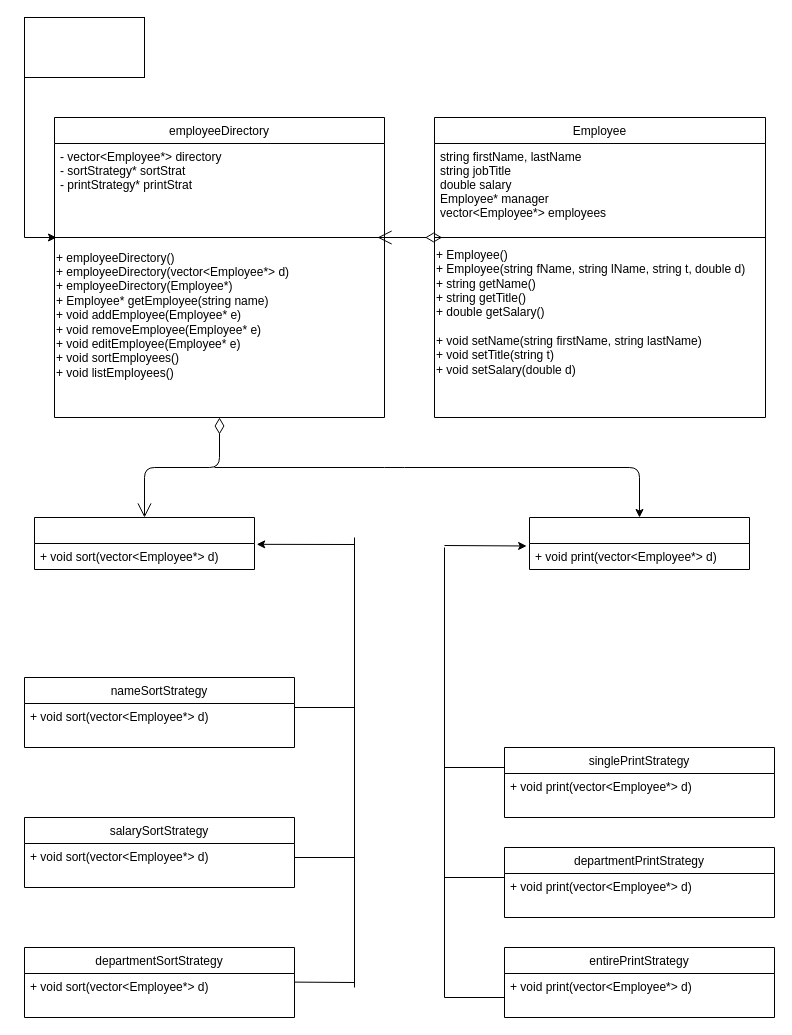
This 792x1035 diagram has some shape labels left out. Here are the shapes that lost their labels. From the top down, the box of each, then its label:
(24, 16, 144, 78): Client
(34, 516, 254, 570): sortStrategy
(528, 516, 750, 570): printStrategy
